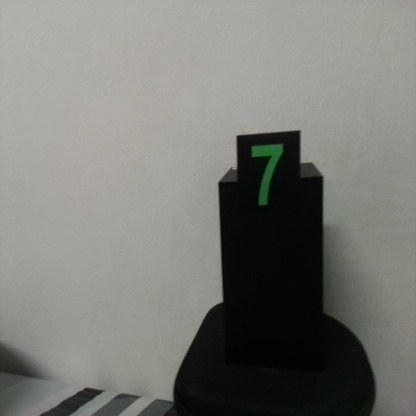id_7: (236, 134, 301, 228)
